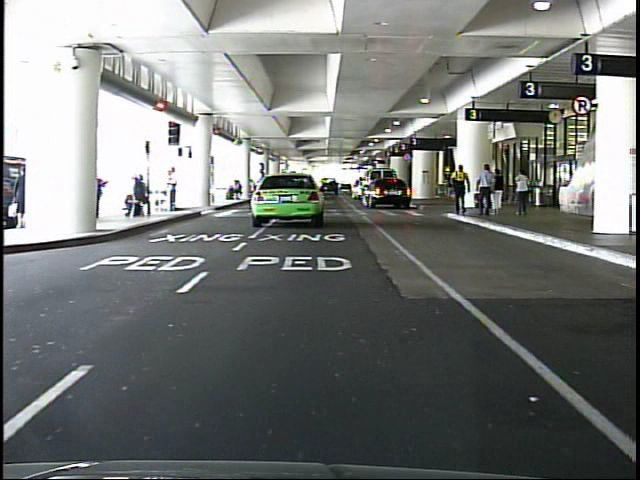person: (16, 168, 49, 226), (449, 161, 474, 222), (509, 166, 536, 220), (475, 162, 496, 219), (167, 167, 186, 216), (491, 166, 507, 220)
